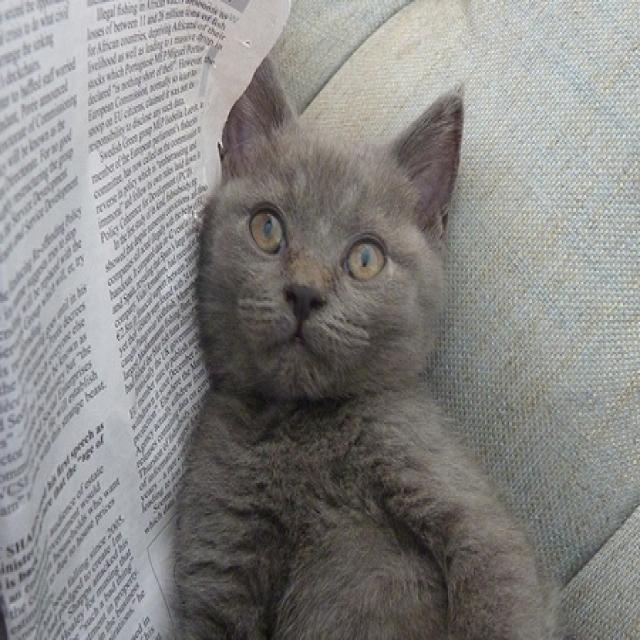British Shorthair: (157, 32, 578, 640)
